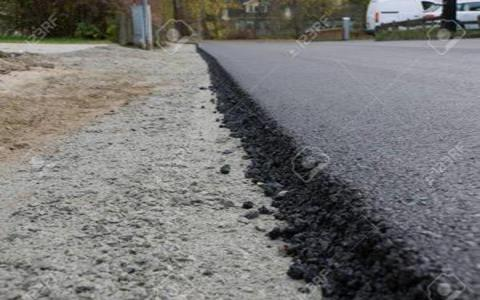Proper road: (278, 39, 467, 177)
